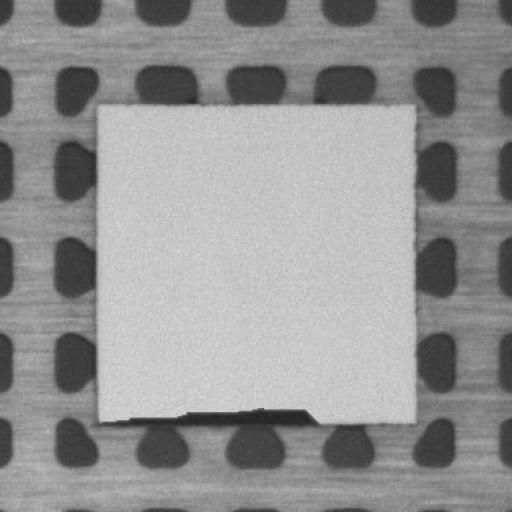DIE_BROKEN: (98, 398, 322, 427)
